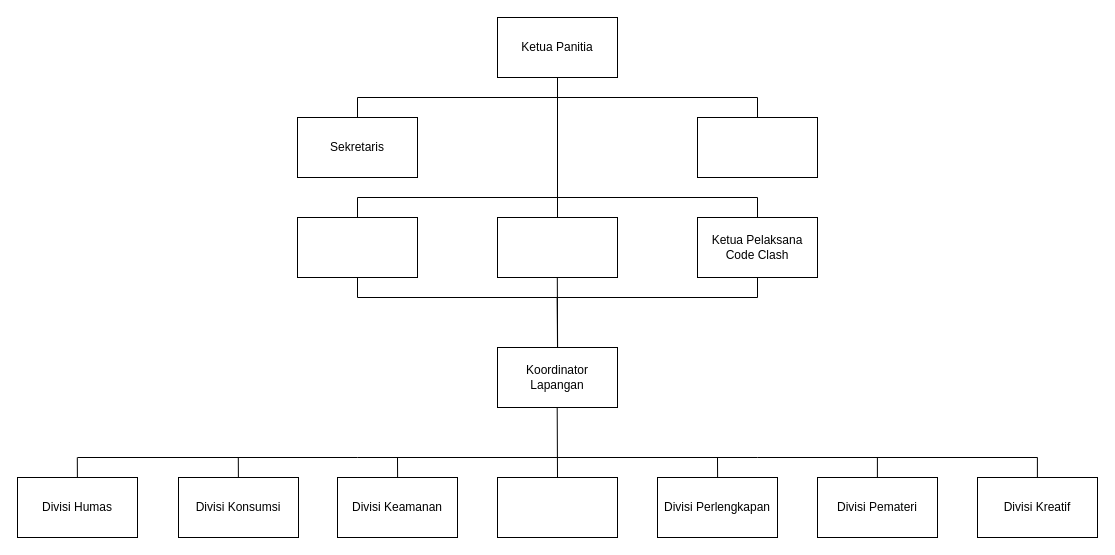
Some shapes in this 1115 by 555 pixel diagram are drawn without their labels. Here are the shapes that lost their labels. From the top down, the box of each, then its label:
(696, 116, 818, 178): Bendahara
(296, 216, 418, 278): Ketua Pelaksana Code Mind
(496, 216, 618, 278): Ketua Pelaksana Code Summit
(496, 476, 618, 538): Divisi Acara
